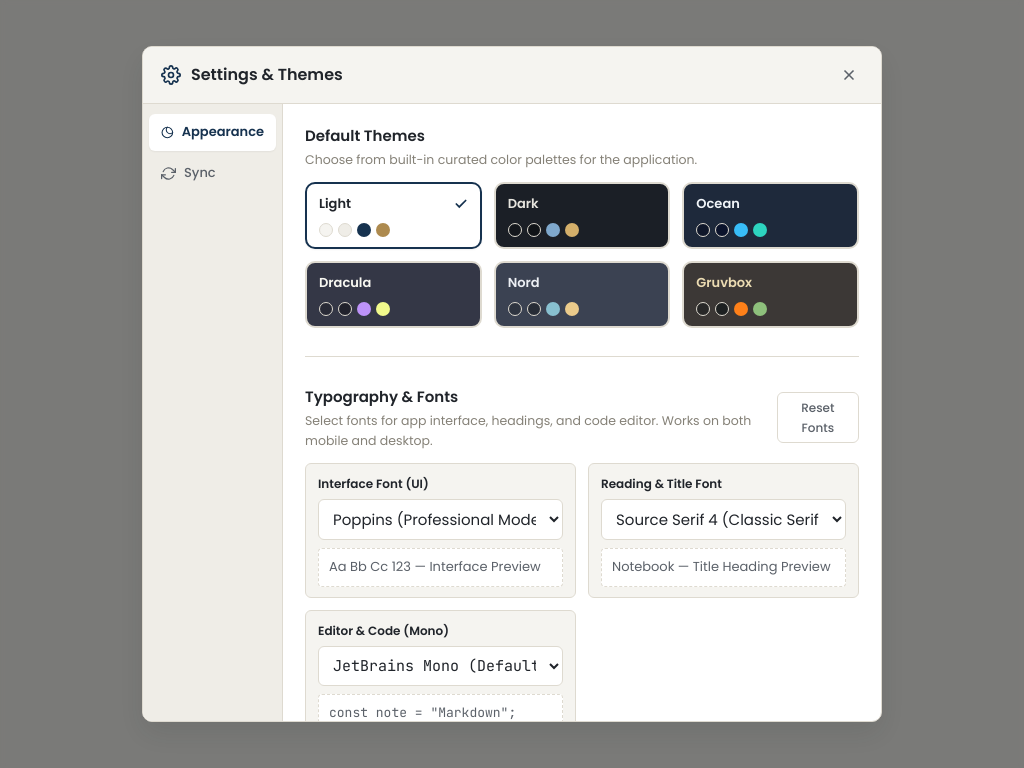
Test: DeletionActivity inside SettingsModal › shows deletion with no connected recipients and explains offline copies
The width and height of the screenshot is (1024, 768).
Click the button "Sync".
click(212, 173)  # box [149,155,276,192]
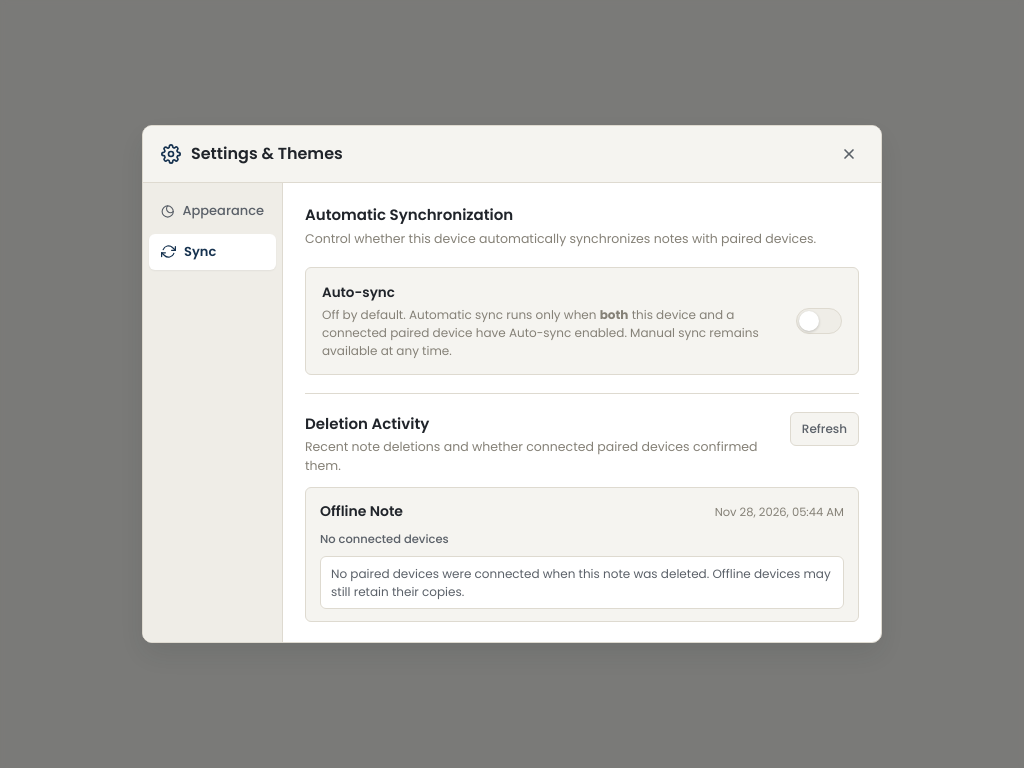
Check: the text "Offline Note" is shown, box [320,500,403,522]
Check: the text "No paired devices were connected when this note was deleted" is shown, box [331,565,831,600]
Check: the text "Offline devices may still retain their copies." is shown, box [331,565,831,600]
